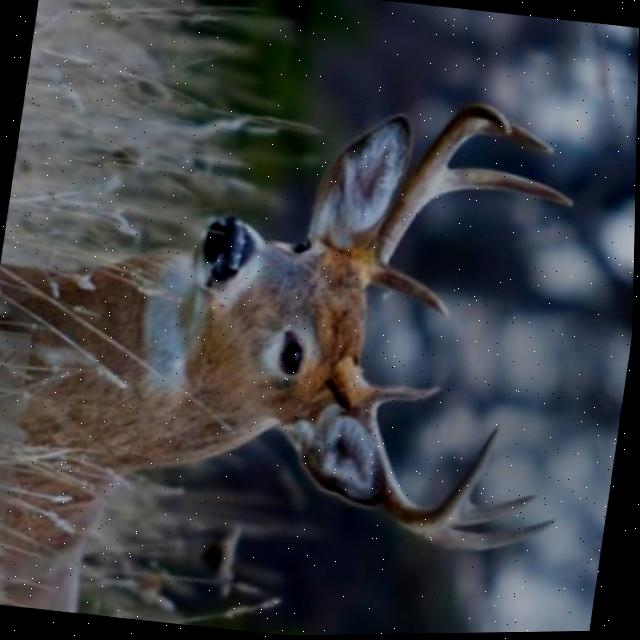L-F: (330, 356, 501, 533)
L-G1: (369, 384, 442, 410)
L-G2: (417, 519, 558, 552)
L-G3: (452, 495, 539, 528)
R-F: (351, 102, 512, 289)
R-G1: (372, 264, 450, 322)
R-G2: (429, 167, 575, 209)
